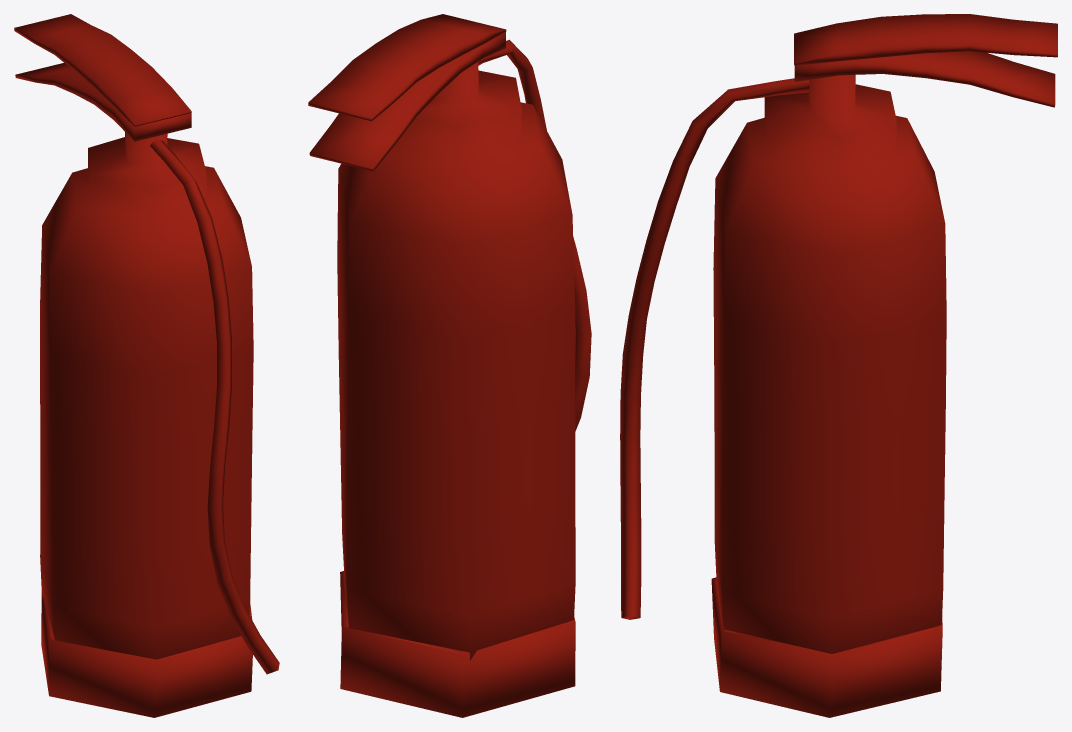
Rendered from extintor_low.fbx.
3 views of the same model, side by side, from view 1: azimuth 30°, elevation 25°; view 2: azimuth 150°, elevation 25°; view 3: azimuth 270°, elevation 25° (orthographic). The views are drawn at different scales.
Parts seen in each view (by area): view 1: Extintor_low; view 2: Extintor_low; view 3: Extintor_low.
Part boxes in pixels (x1,y1,x2,y2): Extintor_low: (14,14,279,717); Extintor_low: (308,14,591,717); Extintor_low: (620,14,1057,717).
Size of the model in its own units: 199 by 538 by 337.
